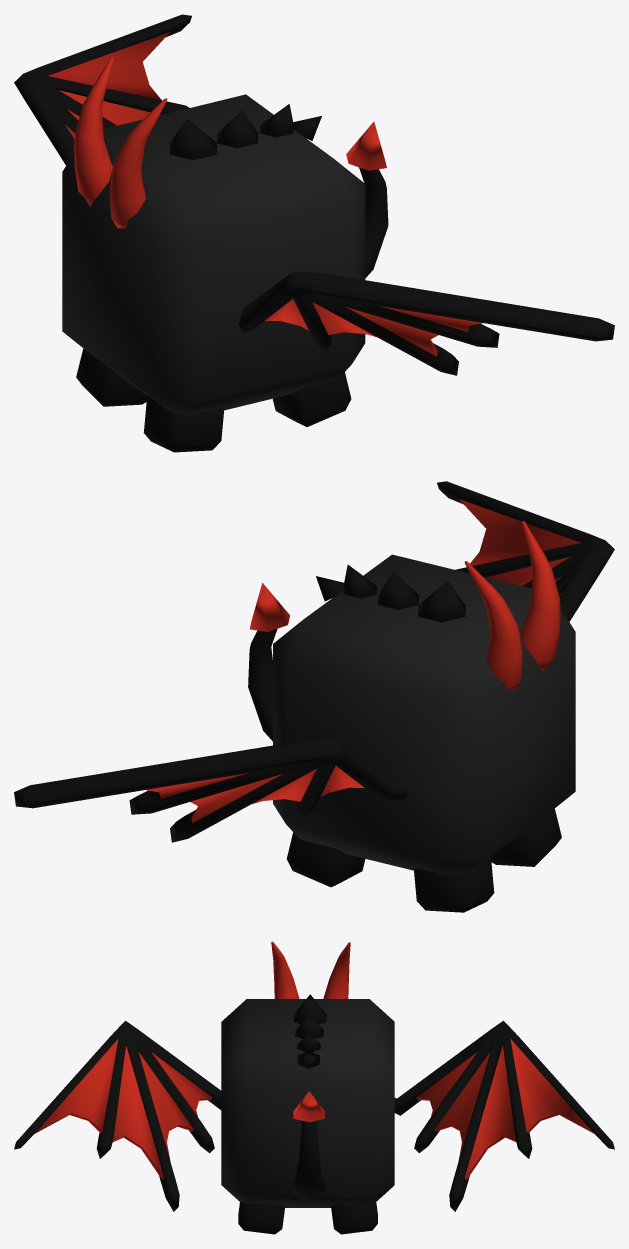
The model's file is DarkDragonLOW.fbx.
3 renders of one model, top to bottom at view 1: azimuth 30°, elevation 25°; view 2: azimuth 150°, elevation 25°; view 3: azimuth 270°, elevation 25°, orthographic. The views are drawn at different scales.
Visible parts, largest first — view 1: DarkDragon; view 2: DarkDragon; view 3: DarkDragon.
Part boxes in pixels (bbox=[...]): DarkDragon: bbox=[14, 14, 614, 452]; DarkDragon: bbox=[14, 481, 614, 912]; DarkDragon: bbox=[14, 941, 614, 1234].
Bounding box in the file's own units: 105 × 113 × 252.
